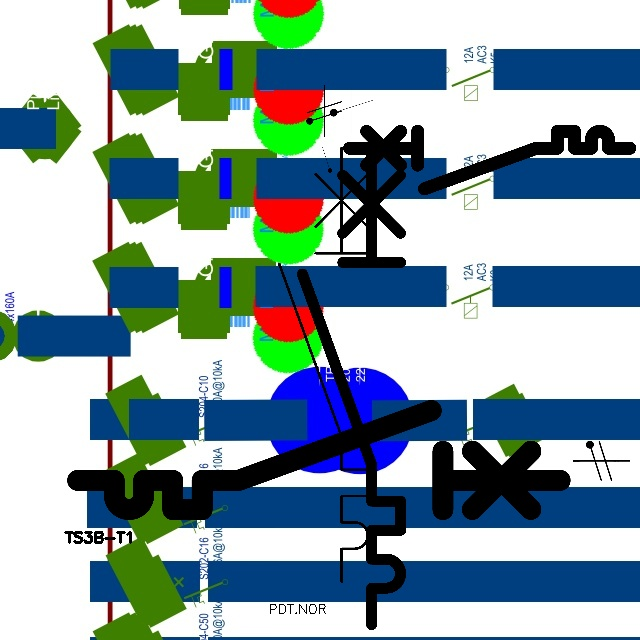interruptor_termomagnetico: (65, 398, 573, 522), (290, 133, 413, 636), (268, 136, 379, 592), (342, 124, 637, 196)
